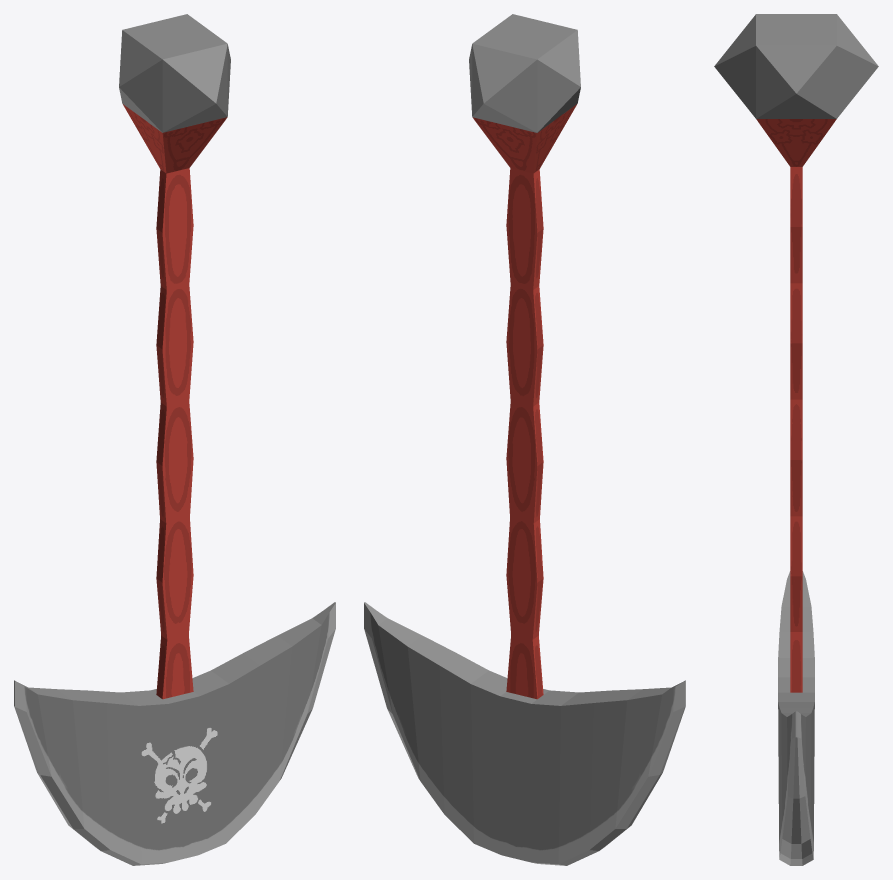
Rendered from Axe.glb.
The picture shows the model from 3 angles, left to right: view 1: azimuth 30°, elevation 25°; view 2: azimuth 150°, elevation 25°; view 3: azimuth 270°, elevation 25°; orthographic projection.
Parts seen in each view (by area): view 1: Cube; view 2: Cube; view 3: Cube.
Part boxes in pixels (<box>): Cube: <box>14,14,335,865</box>; Cube: <box>364,14,685,865</box>; Cube: <box>714,14,878,865</box>.
Bounding box in the file's own units: 2.27 × 5.54 × 1.01.
1 material, 1 textured.
